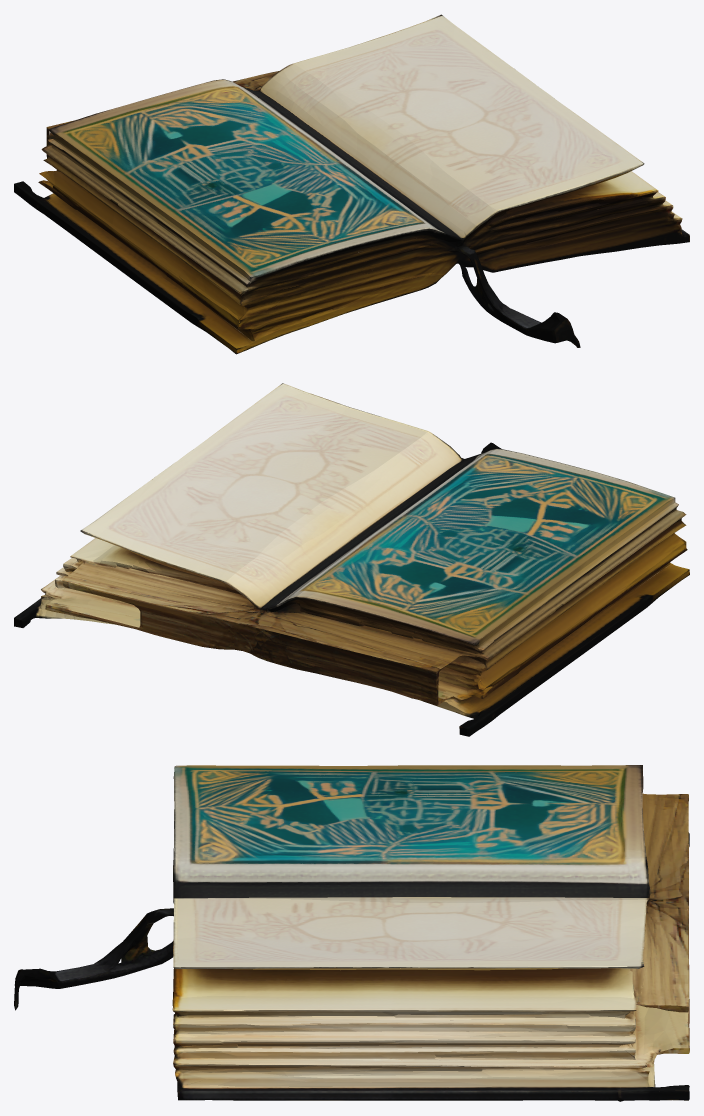
Rendered from handmade-paper-journal-art-deco.jpeg.glb.
3 renders of one model, top to bottom at view 1: azimuth 30°, elevation 25°; view 2: azimuth 150°, elevation 25°; view 3: azimuth 270°, elevation 25°, orthographic. The views are drawn at different scales.
Visible parts, largest first — view 1: world; view 2: world; view 3: world.
Part boxes in pixels (x1=…): world: x1=14, y1=14, x2=689, y2=354; world: x1=14, y1=383, x2=689, y2=736; world: x1=14, y1=765, x2=689, y2=1101.
Size of the model in its own units: 0.9061 by 0.1948 by 1.
1 material, 1 textured.
